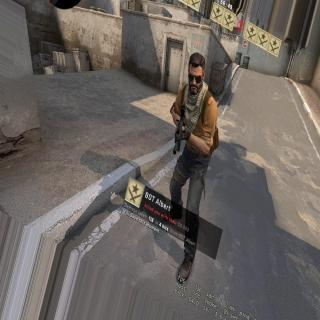T-Body: (161, 51, 217, 276)
T-Head: (186, 53, 208, 94)
